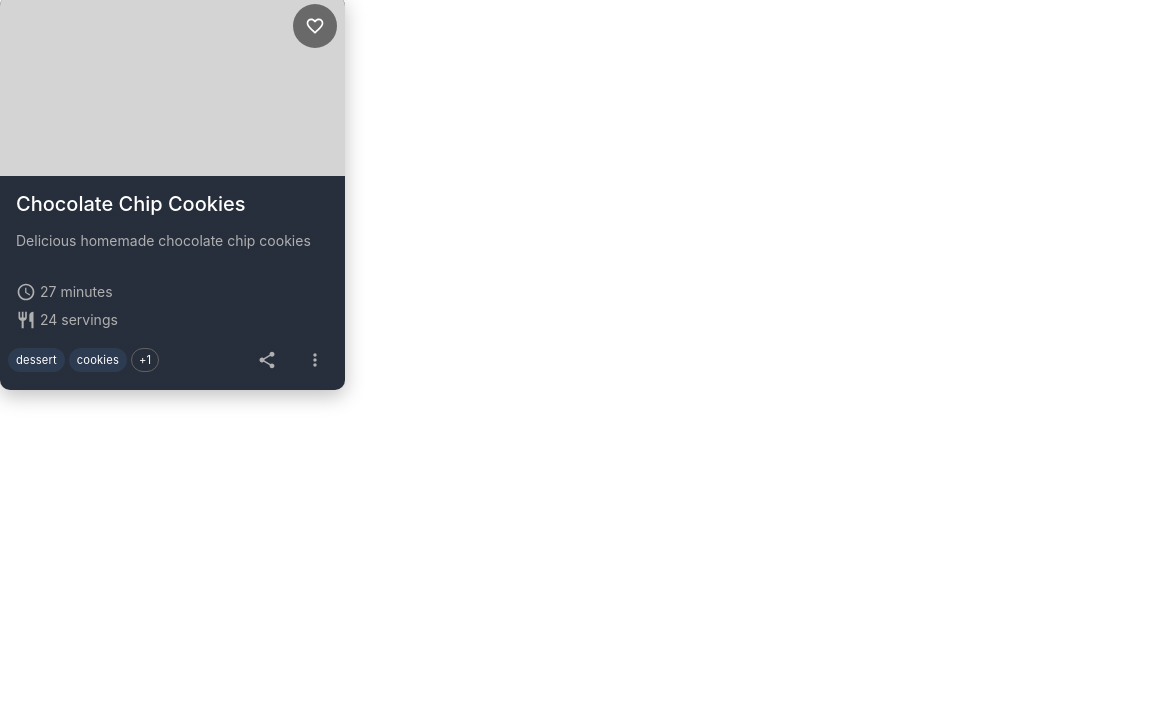
RecipeCard Component › Delete Recipe › should open delete confirmation dialog
// Open menu
Click the button named "more actions" at (315, 360), box [293,338,337,382]
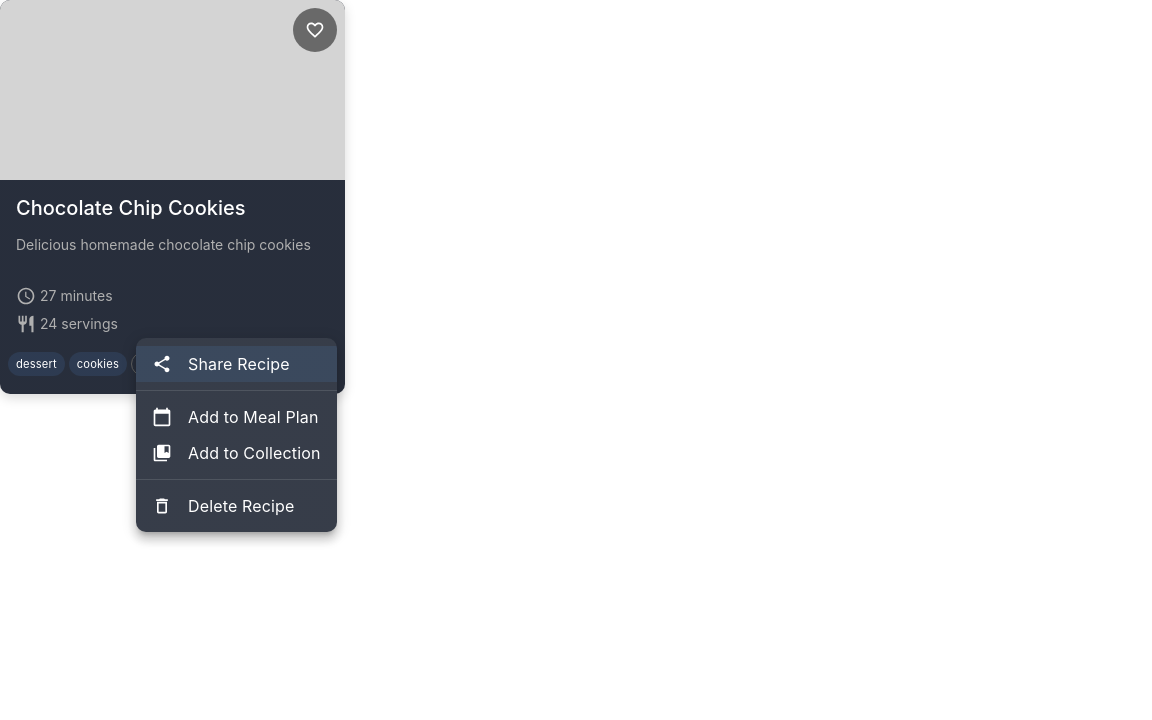
// Click delete
Click the menu item "Delete Recipe" at (223, 506), box [152,496,294,516]
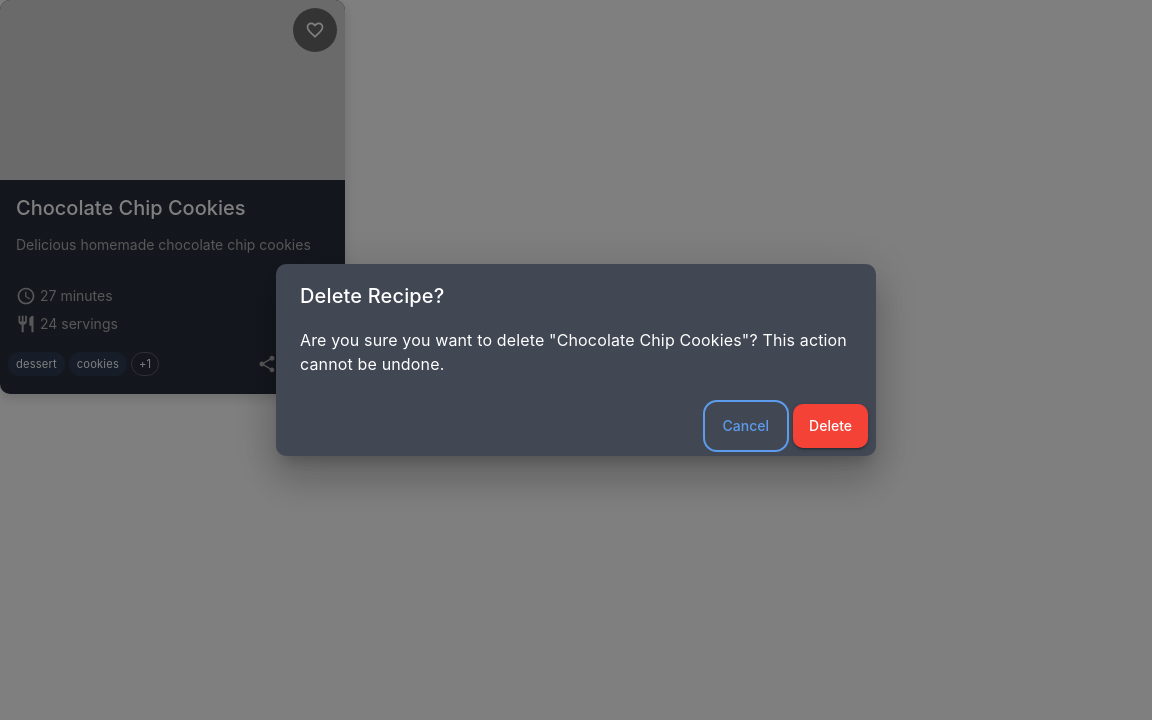
Check: the heading "Delete Recipe?" is shown, box [300,284,444,308]
Check: the text "Are you sure you want to delete" is shown, box [300,330,557,350]
